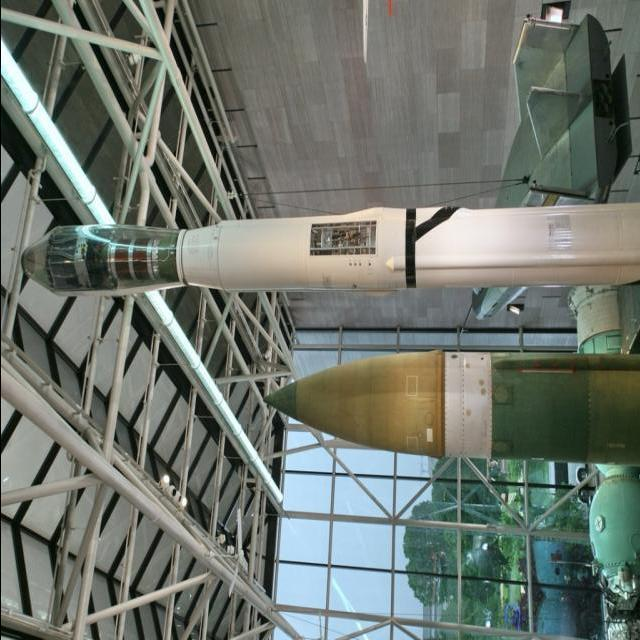missile: (8, 198, 640, 298), (261, 338, 640, 476)
